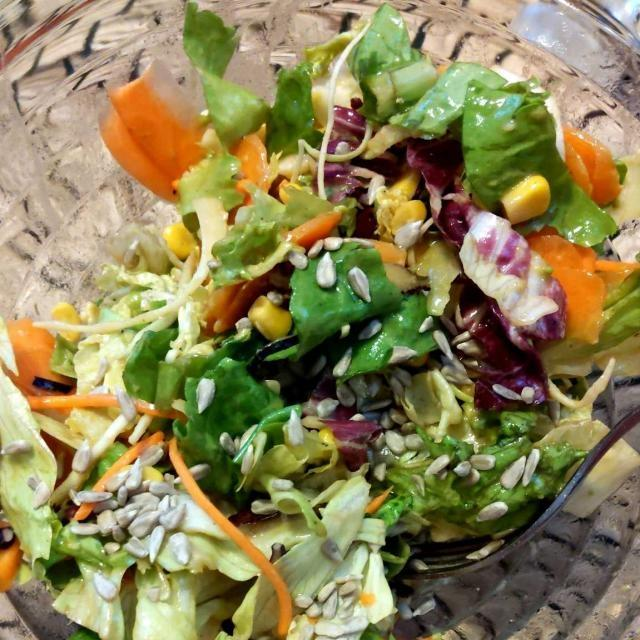salad: (17, 19, 636, 638)
sweet-corn-canned: (242, 158, 559, 345)
